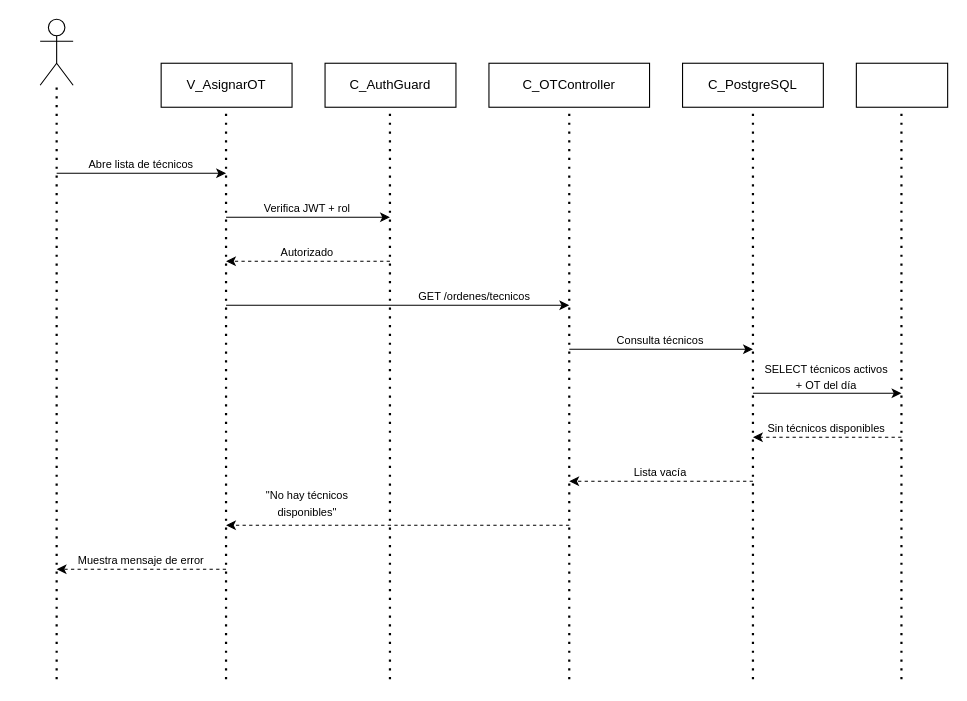
Some shapes in this 967 by 701 pixel diagram are drawn without their labels. Here are the shapes that lost their labels. From the top down, the box of each, then its label:
(39, 18, 73, 85): Jefe Técnico
(855, 62, 948, 107): usuario
